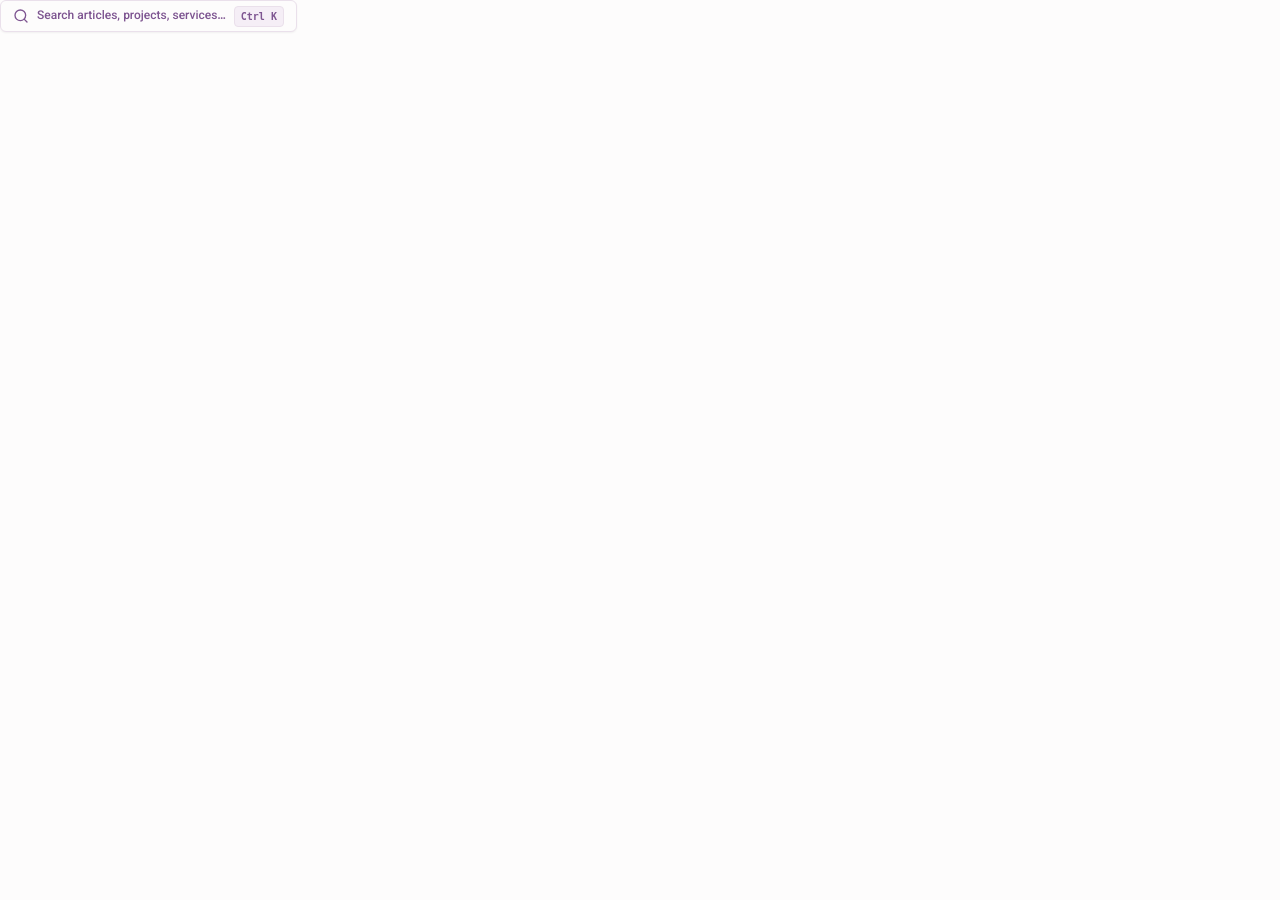
Test case: Command Center › filters commands by typed text and shows empty guidance
The width and height of the screenshot is (1280, 900).
Press k
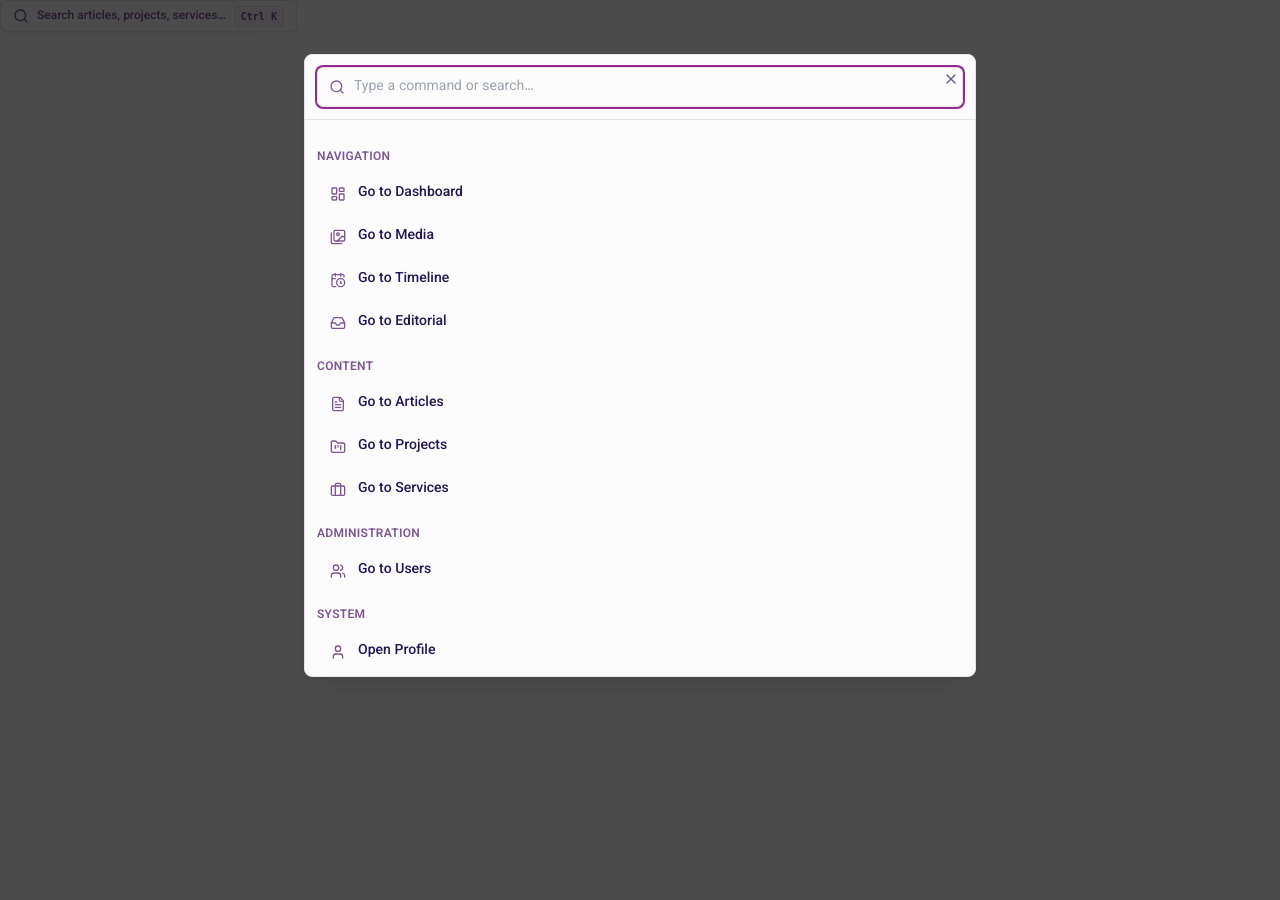
In the dropdown: point(640, 87) [317, 67, 963, 107], type "zzz-no-such-command"
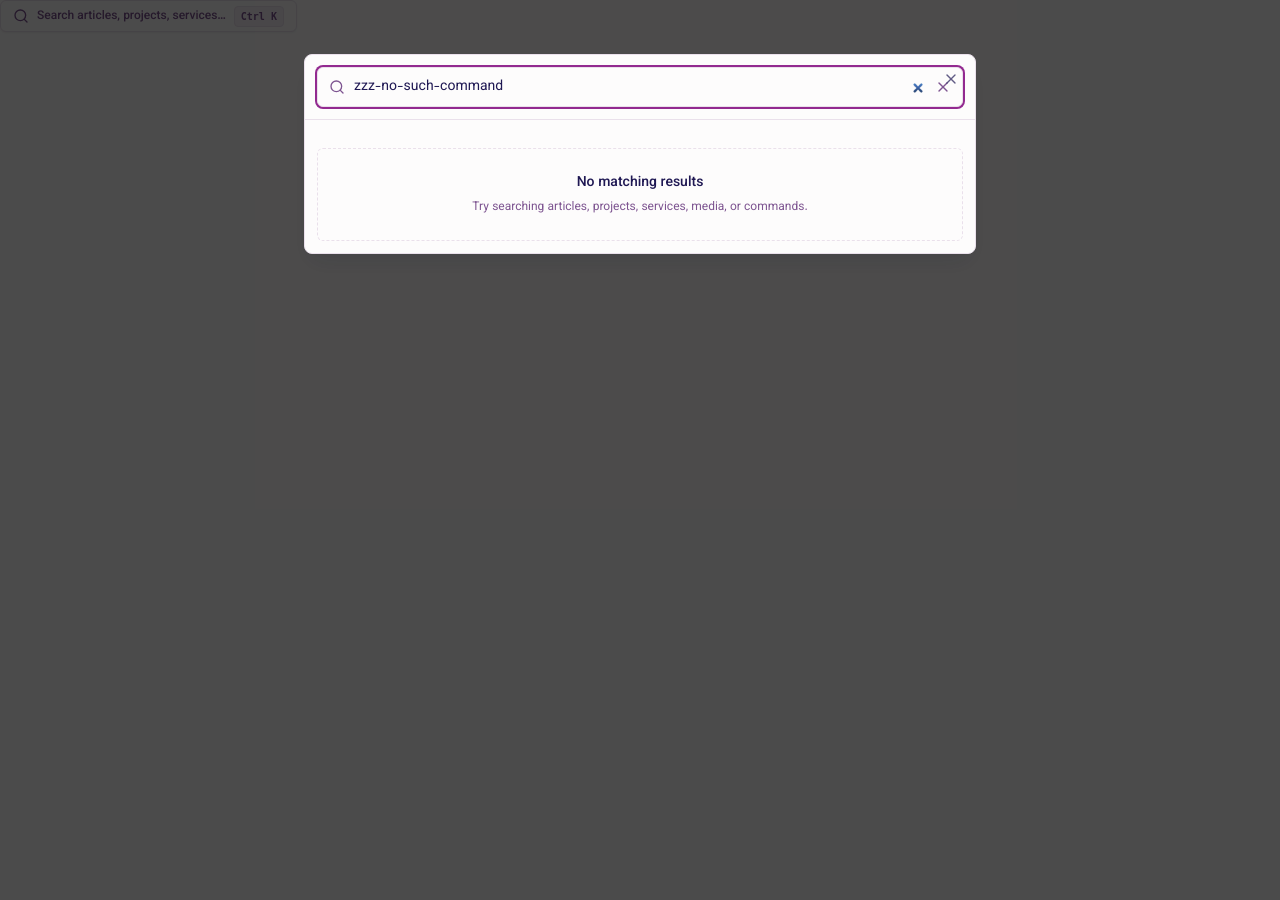
Result: the text "No matching results" is shown at [577, 172, 703, 194]
Result: the text "Try searching articles" is shown at [472, 198, 808, 216]
